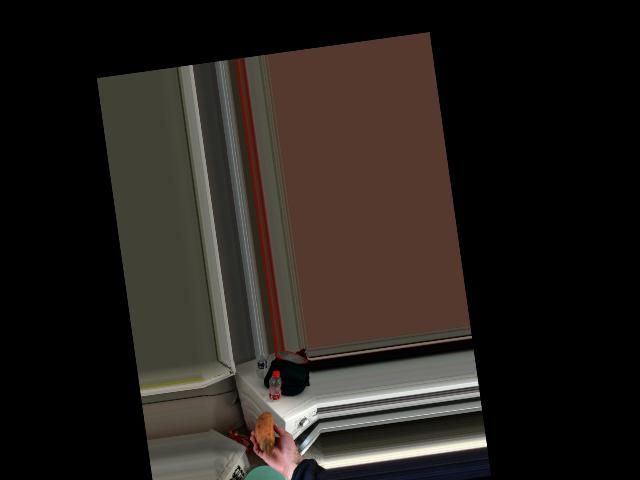sweet_potato: (252, 401, 276, 451)
